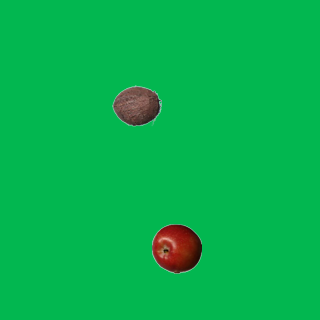Apple Braeburn: (151, 223, 201, 273)
Cocos: (111, 80, 161, 130)
